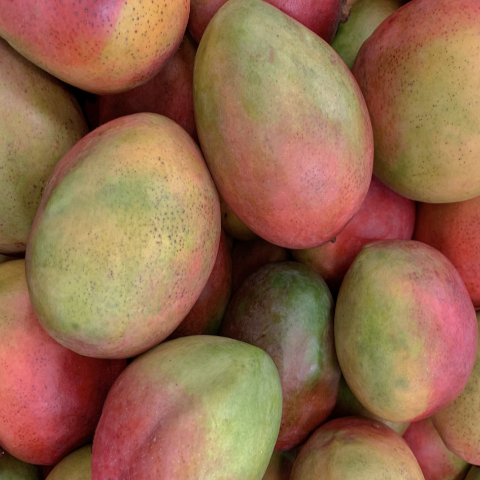mango: (155, 1, 415, 274), (12, 109, 228, 366), (93, 329, 303, 479), (327, 233, 477, 413)
